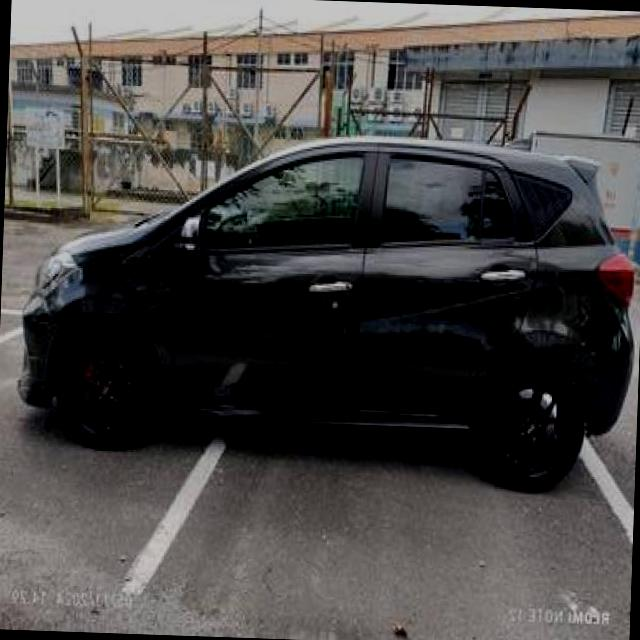PeroduaMyvi: (12, 119, 640, 493)
